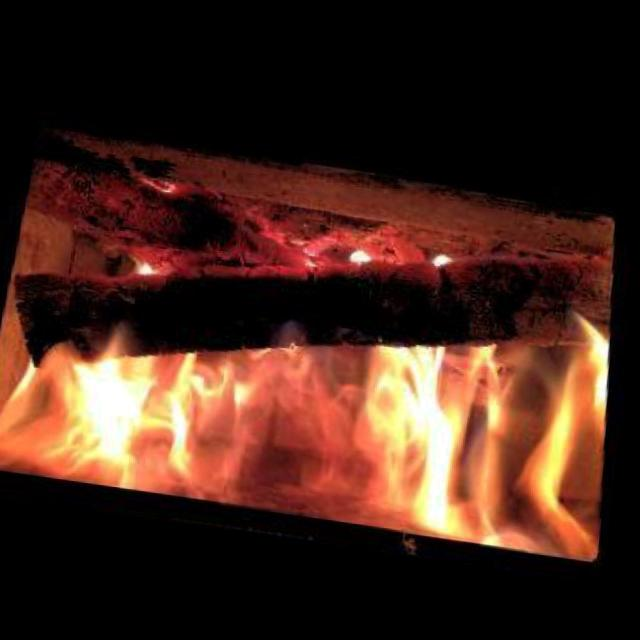fire: (0, 244, 612, 547)
